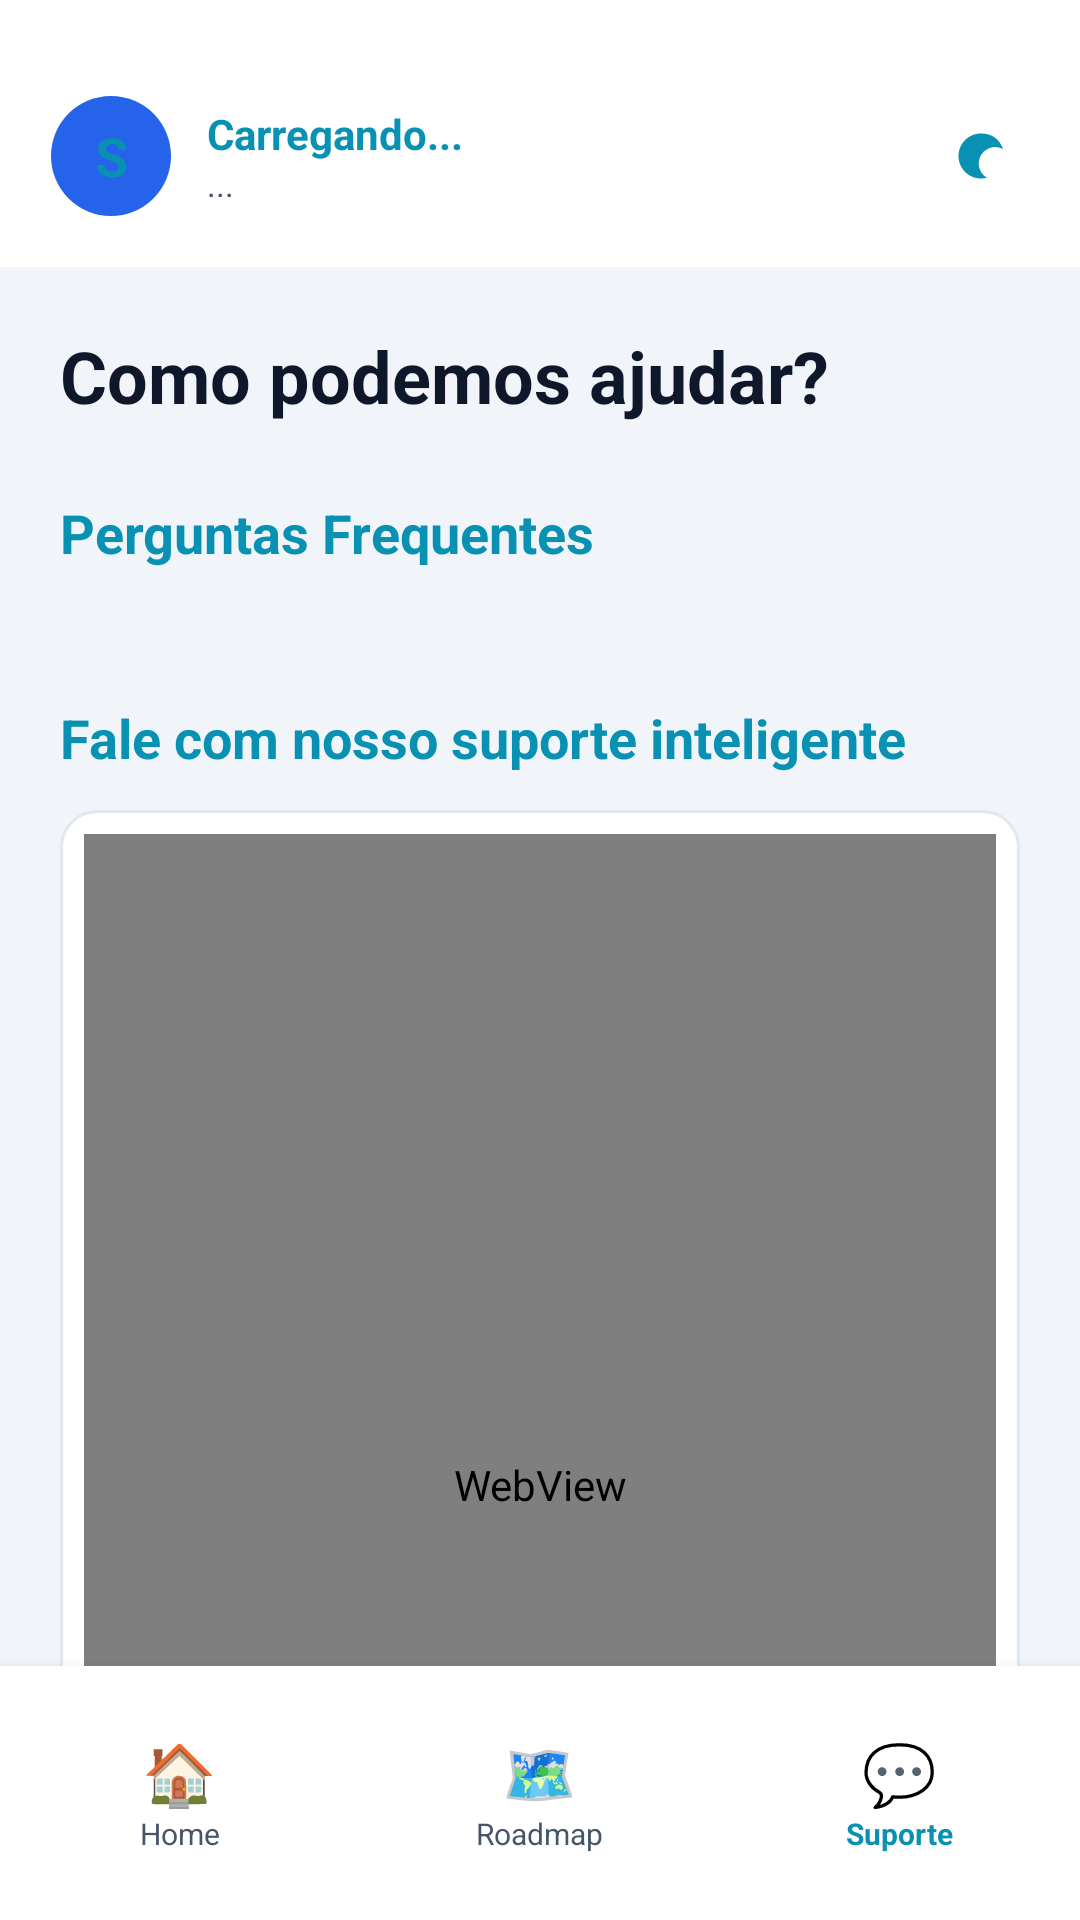

Named icons in this screenshot (1080*1920) and their bounding boxes, Rect(x1, y1, x2, y2):
Alternar Tema: Rect(958, 133, 1003, 179)
